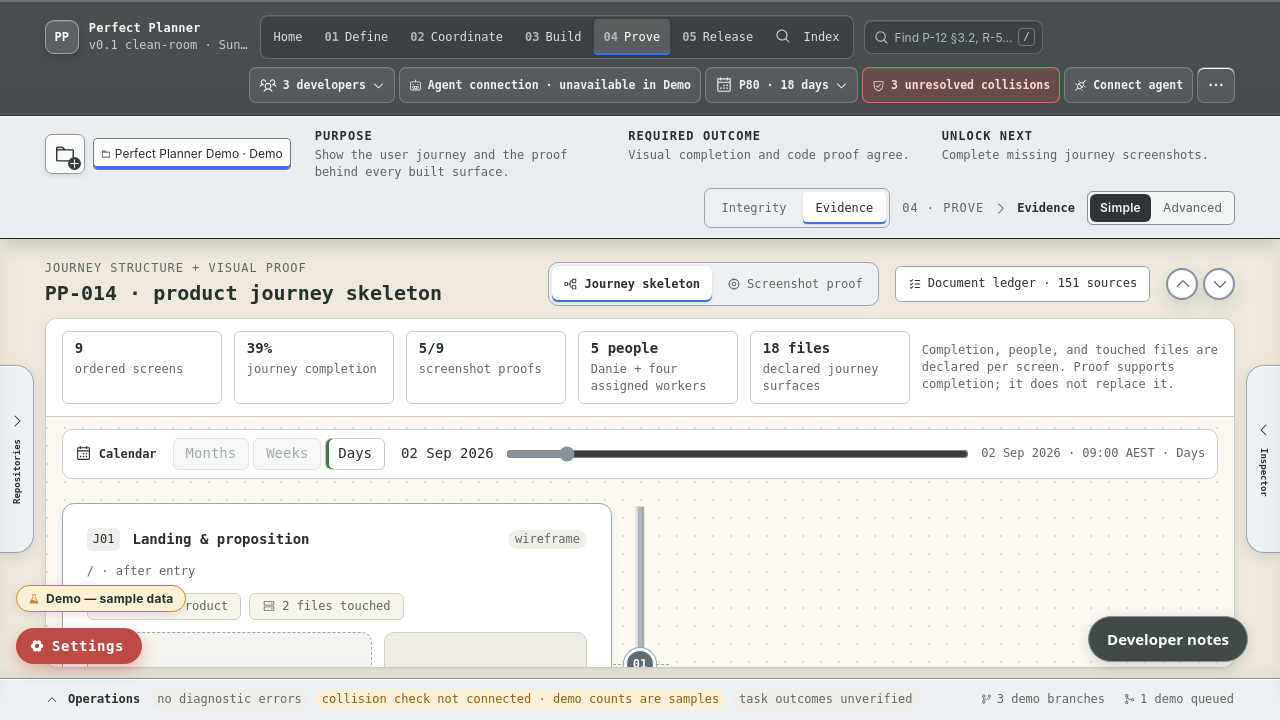
it: Demo controls are honest about being sample data › evidence ids never collide with plan package ids, so the inspector shows the clicked item
This screenshot has width=1280, height=720.
Click the button "Screenshot proof". click: [795, 284]
box: left=715, top=266, right=875, bottom=302
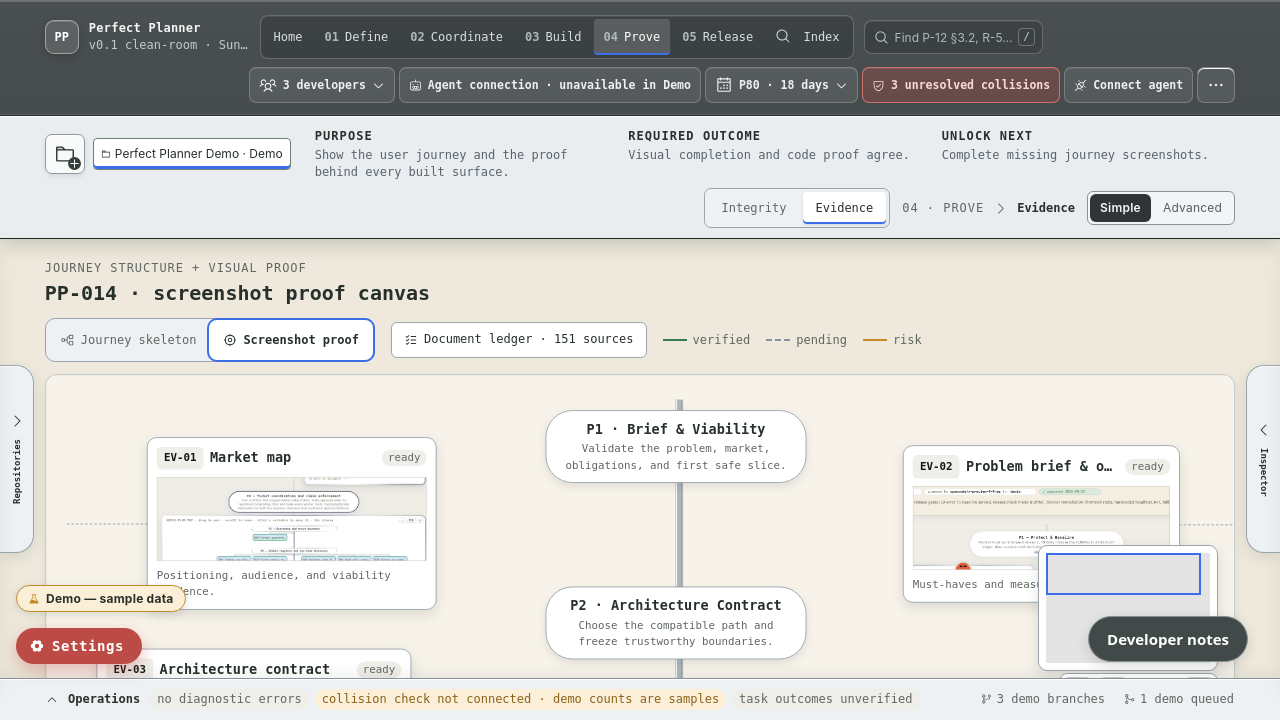
Click the button that starts with "EV-01". click: [292, 523]
box: left=147, top=436, right=436, bottom=610
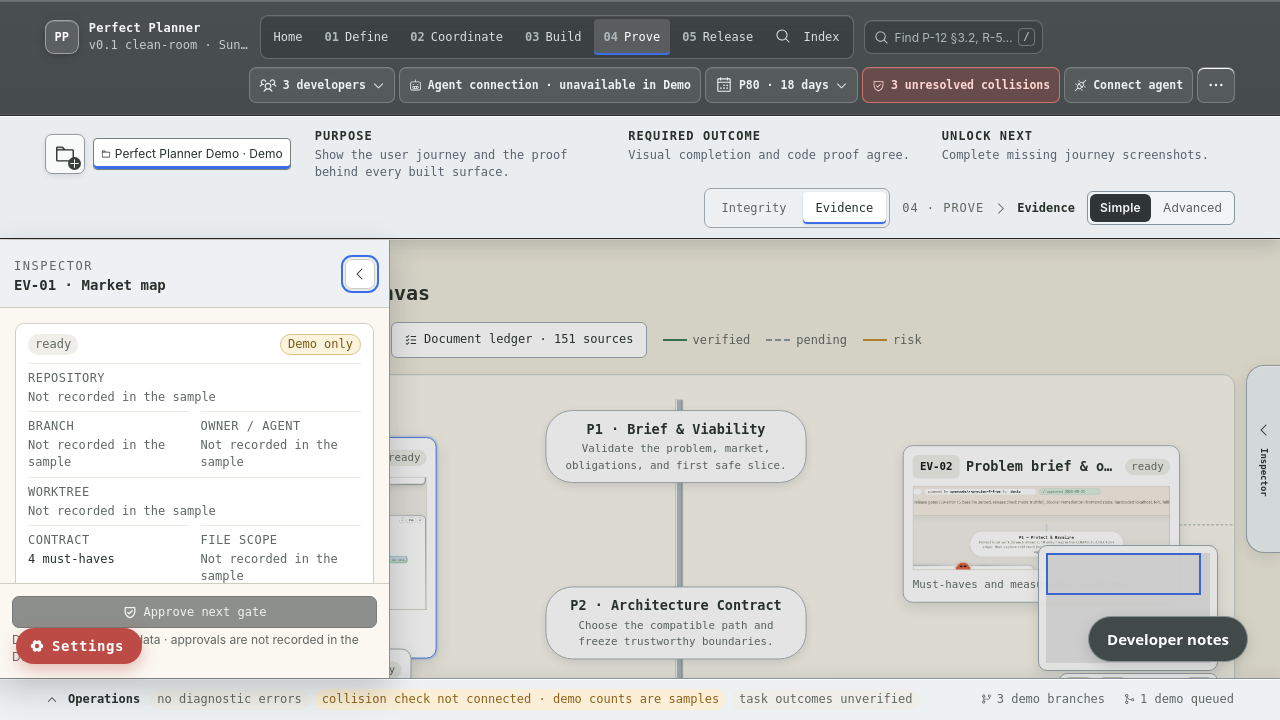
Expected: the heading "EV-01 · Market map" is shown, left=14, top=277, right=166, bottom=293
